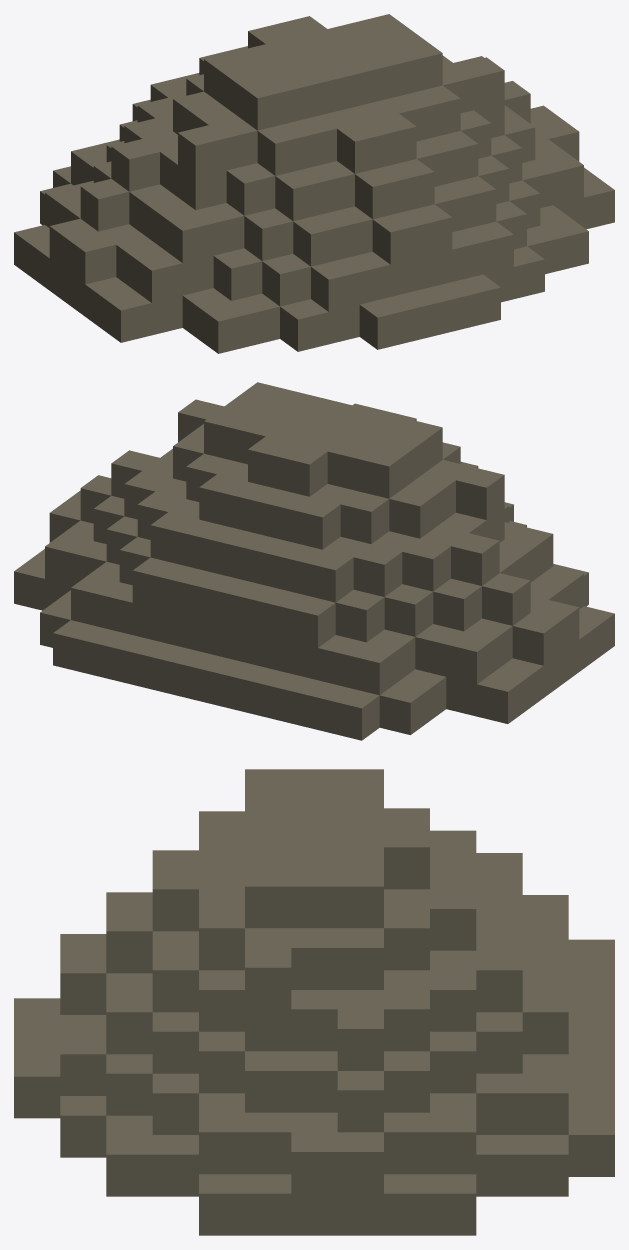
The model's file is stone2.vox.obj.
3 views of the same model, one above another, from view 1: azimuth 30°, elevation 25°; view 2: azimuth 150°, elevation 25°; view 3: azimuth 270°, elevation 25° (orthographic). The views are drawn at different scales.
Bounding box in the file's own units: 1.6 × 0.6 × 1.3.
Materials: 1 (1 with a texture image).
